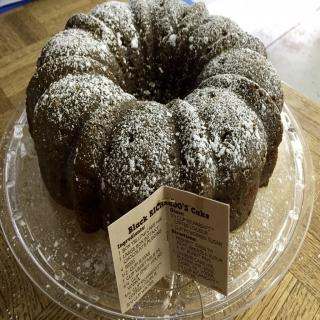Doughnut: (23, 0, 284, 234)
